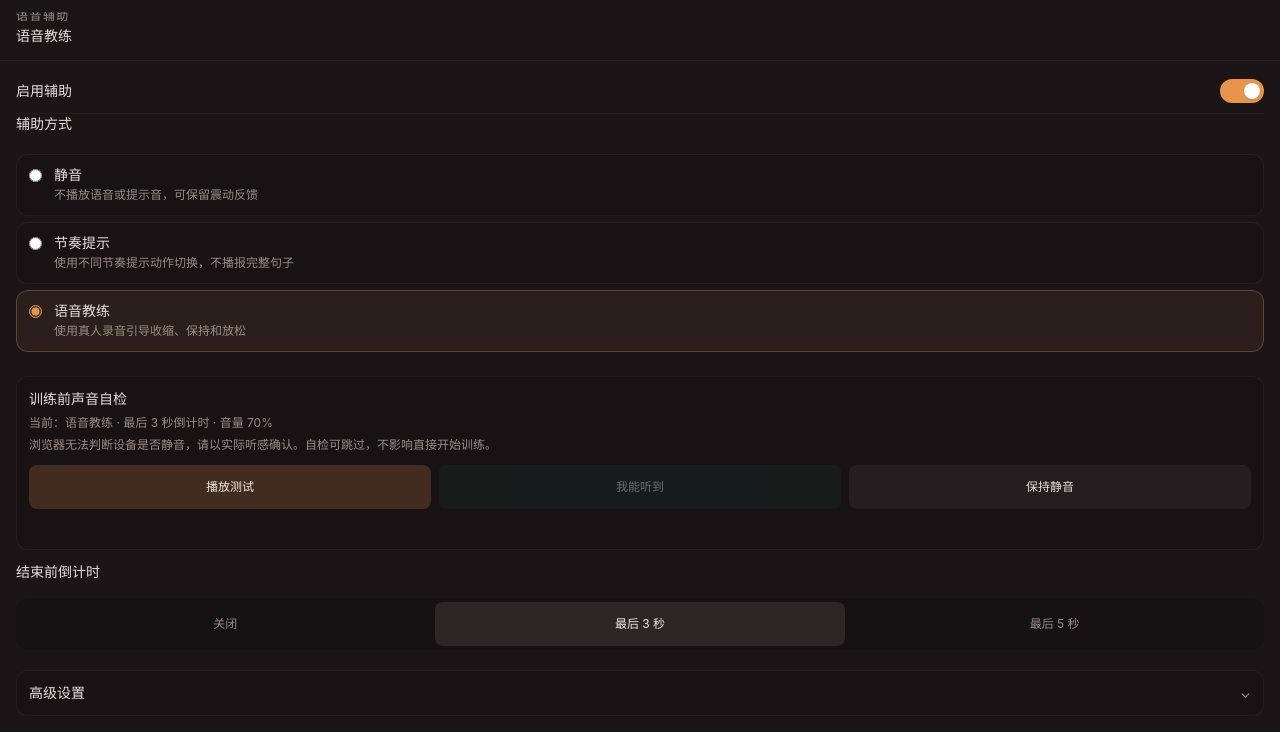
VoiceSettingsPanel › offers a non-technical fallback when preview fails
(page scrolled)
Click the button "播放测试" at coordinates (230, 487), box [29,465,431,509]
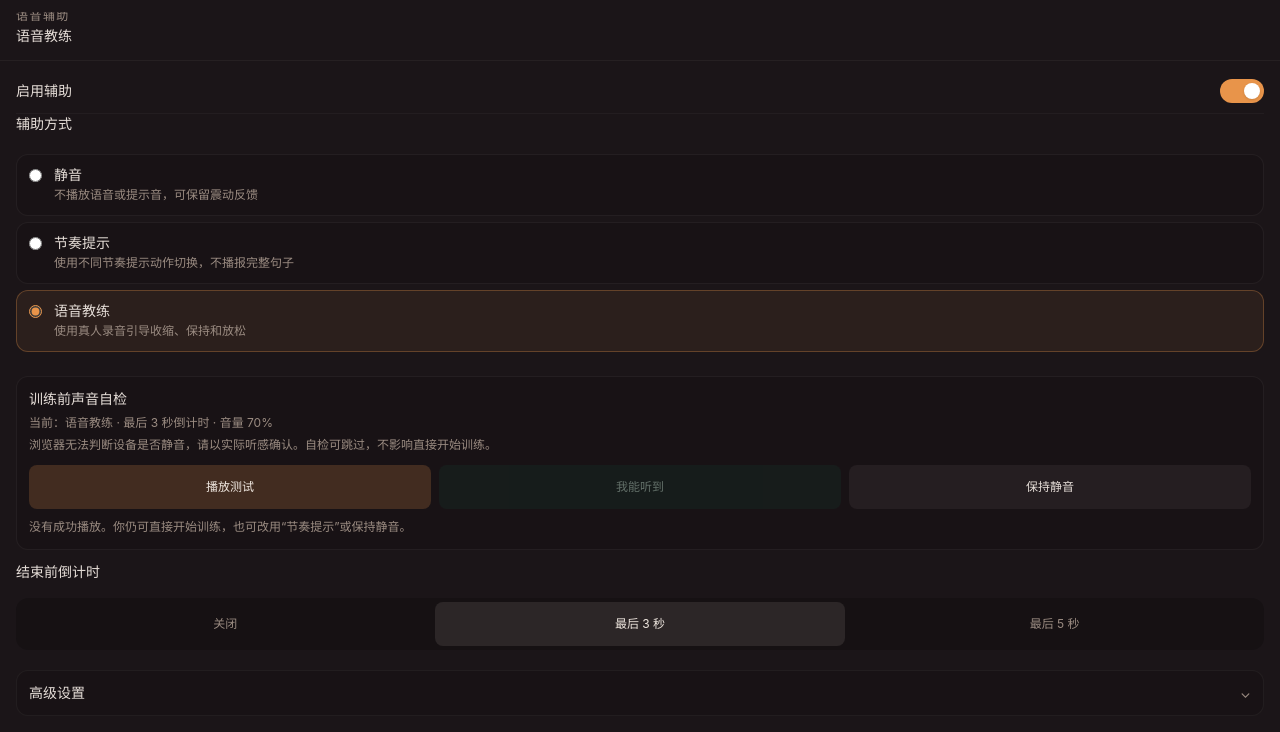
Result: the text "没有成功播放。你仍可直接开始训练，也可改用“节奏提示”或保持静音。" is shown at [29,519,412,534]
